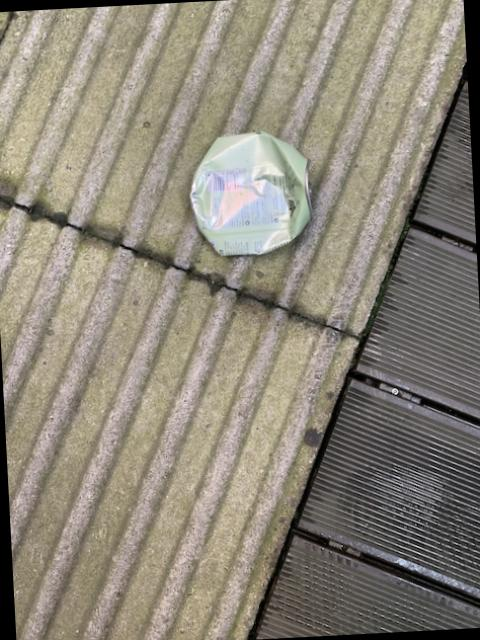metal: (191, 132, 312, 256)
